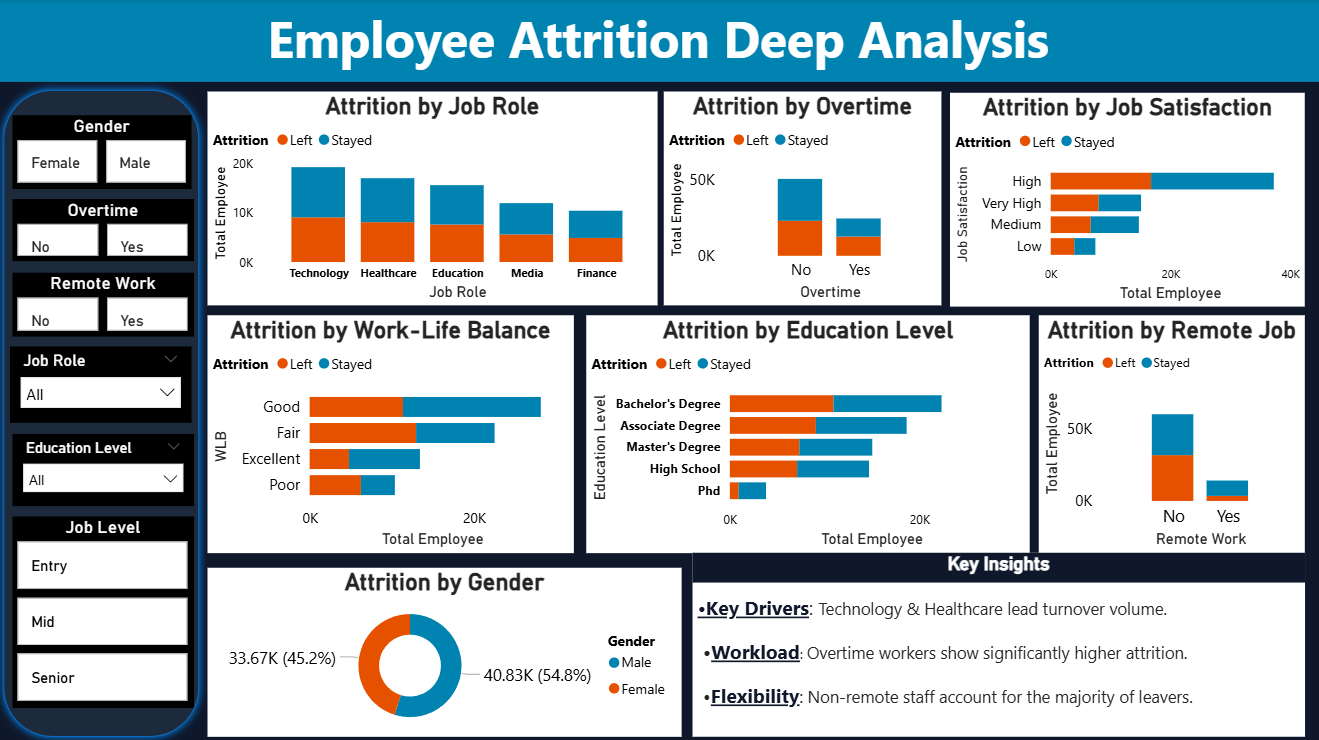

The page's visual inventory and layout, read from the dashboard file:
{"tool":"powerbi","page":{"name":"Deep Analysis","canvas":[1280,720],"ordinal":1},"visuals":[{"type":"textbox","box":[0,0,1280,79.6],"z":0},{"type":"columnChart","title":"Attrition by Job Role","fields":{"Category":["public employee_attrition.Job Role"],"Series":["public employee_attrition.Attrition"],"Y":["CountNonNull(public employee_attrition.Employee ID)"]},"box":[205.1,89.3,434.3,206.3],"z":1000},{"type":"columnChart","title":"Attrition by Overtime","fields":{"Category":["public employee_attrition.Overtime"],"Y":["CountNonNull(public employee_attrition.Employee ID)"],"Series":["public employee_attrition.Attrition"]},"box":[645.4,89.3,267.8,206.3],"z":2000},{"type":"barChart","title":"Attrition by Job Satisfaction","fields":{"Y":["CountNonNull(public employee_attrition.Employee ID)"],"Series":["public employee_attrition.Attrition"],"Category":["public employee_attrition.Job Satisfaction"]},"box":[921.7,90.5,342.6,206.3],"z":3000},{"type":"barChart","title":"Attrition by Work-Life Balance","fields":{"Category":["public employee_attrition.Work-Life Balance"],"Y":["CountNonNull(public employee_attrition.Employee ID)"],"Series":["public employee_attrition.Attrition"]},"box":[205.1,305.2,353.5,229.2],"z":4000},{"type":"barChart","title":"Attrition by Education Level","fields":{"Y":["CountNonNull(public employee_attrition.Employee ID)"],"Series":["public employee_attrition.Attrition"],"Category":["public employee_attrition.Education Level"]},"box":[570.6,305.2,428.3,229.2],"z":5000},{"type":"donutChart","title":"Attrition by Gender","fields":{"Y":["CountNonNull(public employee_attrition.Employee ID)"],"Category":["public employee_attrition.Gender"]},"box":[205.1,548.9,457.2,162.9],"z":6000},{"type":"columnChart","title":"Attrition by Remote Job","fields":{"Category":["public employee_attrition.Remote Work"],"Series":["public employee_attrition.Attrition"],"Y":["CountNonNull(public employee_attrition.Employee ID)"]},"box":[1007.4,305.2,257,229.2],"z":7000},{"type":"shape","box":[0,79.6,205.1,640.6],"z":8000},{"type":"textbox","box":[673.2,534.5,591.2,177.3],"z":9000},{"type":"textbox","title":"Key Insights","box":[673.2,534.5,591.2,29],"z":10000},{"type":"advancedSlicerVisual","fields":{"Values":["public employee_attrition.Gender"]},"box":[16.9,112.2,172.5,71.2],"z":11000},{"type":"advancedSlicerVisual","title":"Overtime","fields":{"Values":["public employee_attrition.Overtime"]},"box":[16.9,193,174.9,60.3],"z":12000},{"type":"advancedSlicerVisual","title":"Remote Work","fields":{"Values":["public employee_attrition.Remote Work"]},"box":[16.9,264.2,174.9,61.5],"z":13000},{"type":"slicer","fields":{"Values":["public employee_attrition.Job Role"]},"box":[14.5,335.4,174.9,73.6],"z":14000},{"type":"slicer","fields":{"Values":["public employee_attrition.Education Level"]},"box":[16.9,419.8,174.9,70],"z":15000},{"type":"advancedSlicerVisual","title":"Job Level","fields":{"Values":["public employee_attrition.Job Level"]},"box":[16.9,499.5,174.9,184.6],"z":16000}]}

Visuals, with their boxes in screenshot pixels (x1, y1, x2, y2), scaled from the page's 1280x720 canvas onto the 1319x740 screenshot:
textbox: [0, 0, 1318, 82]
"Attrition by Job Role" columnChart: [211, 92, 659, 304]
"Attrition by Overtime" columnChart: [665, 92, 941, 304]
"Attrition by Job Satisfaction" barChart: [950, 93, 1303, 305]
"Attrition by Work-Life Balance" barChart: [211, 314, 576, 549]
"Attrition by Education Level" barChart: [588, 314, 1029, 549]
"Attrition by Gender" donutChart: [211, 564, 682, 732]
"Attrition by Remote Job" columnChart: [1038, 314, 1303, 549]
shape: [0, 82, 211, 739]
textbox: [694, 549, 1303, 732]
"Key Insights" textbox: [694, 549, 1303, 579]
advancedSlicerVisual - public employee_attrition.Gender: [17, 115, 195, 188]
"Overtime" advancedSlicerVisual: [17, 198, 198, 260]
"Remote Work" advancedSlicerVisual: [17, 272, 198, 335]
slicer - public employee_attrition.Job Role: [15, 345, 195, 420]
slicer - public employee_attrition.Education Level: [17, 431, 198, 503]
"Job Level" advancedSlicerVisual: [17, 513, 198, 703]
